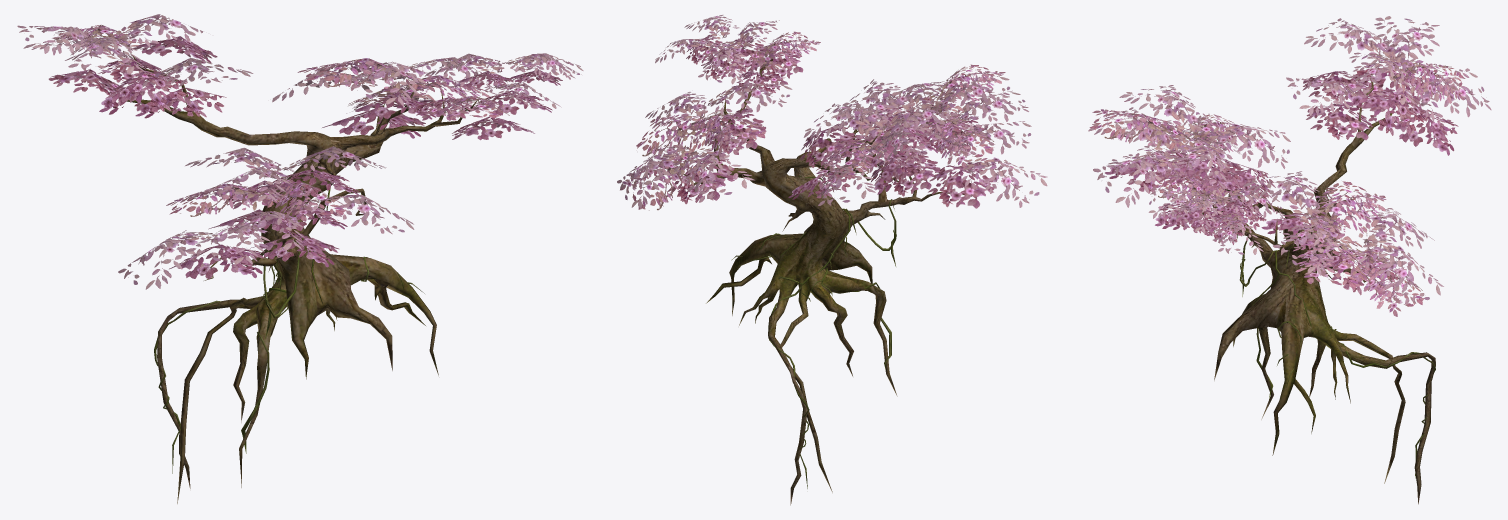
File: m_zhiwu_05.FBX
3 views of the same model, side by side, from view 1: azimuth 30°, elevation 25°; view 2: azimuth 150°, elevation 25°; view 3: azimuth 270°, elevation 25° (orthographic). The views are drawn at different scales.
Parts seen in each view (by area): view 1: m_zhiwu_05; view 2: m_zhiwu_05; view 3: m_zhiwu_05.
Boxes of the visible parts, left/top/right/bottom form: m_zhiwu_05: left=17, top=14, right=583, bottom=503; m_zhiwu_05: left=617, top=15, right=1047, bottom=505; m_zhiwu_05: left=1088, top=16, right=1491, bottom=504.
Bounding box in the file's own units: 447 × 470 × 410.
